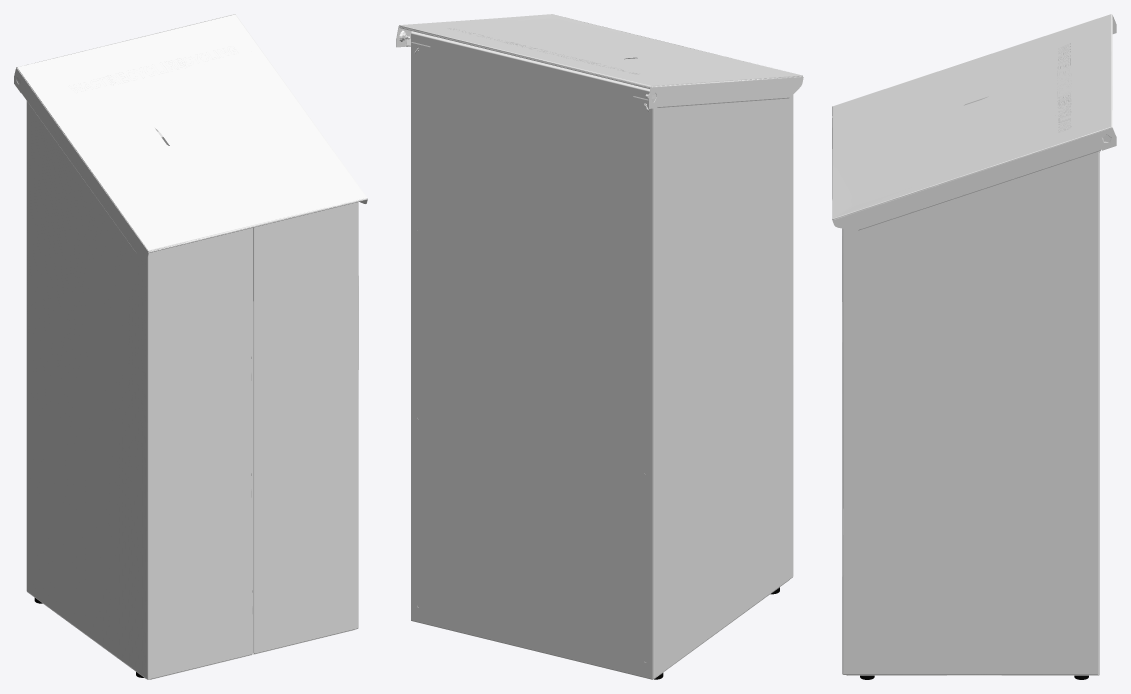
File: slope.glb
3 renders of one model, left to right at view 1: azimuth 30°, elevation 25°; view 2: azimuth 150°, elevation 25°; view 3: azimuth 270°, elevation 25°, orthographic. The views are drawn at different scales.
Visible parts, largest first — view 1: StandardL, Standard, Top_R, Top_RR, Top_RP, Top_P, Top_WW, JuniorL; view 2: Standard, StandardL, Top_R, Top_RR, Top_RP, Top_P, Top_W, Top_WW; view 3: Standard, StandardL, Top_R, Top_RR, Top_RP, Top_P, Top_WW, Top_W, JuniorL.
Part boxes in pixels (x1,y1,x2,y2): StandardL: (28, 103, 358, 679); Standard: (26, 101, 146, 677); Top_R: (14, 14, 308, 257); Top_RR: (16, 38, 366, 251); Top_RP: (16, 14, 367, 251); Top_P: (14, 75, 367, 257); Top_WW: (102, 110, 366, 251); JuniorL: (147, 132, 358, 679); Standard: (411, 31, 791, 679); StandardL: (458, 42, 793, 678); Top_R: (396, 19, 803, 107); Top_RR: (400, 18, 802, 102); Top_RP: (396, 17, 741, 98); Top_P: (396, 26, 802, 110); Top_W: (396, 27, 800, 111); Top_WW: (397, 14, 802, 80); Standard: (845, 97, 1099, 675); StandardL: (842, 98, 1095, 675); Top_R: (833, 32, 1116, 230); Top_RR: (833, 14, 1116, 168); Top_RP: (832, 14, 1116, 219); Top_P: (832, 20, 1116, 226); Top_WW: (832, 107, 963, 218); Top_W: (832, 17, 1116, 230); JuniorL: (842, 302, 1096, 675).
Bounding box in the file's own units: 42.78 × 98.02 × 45.39.
Materials: 21 (21 with a texture image).
